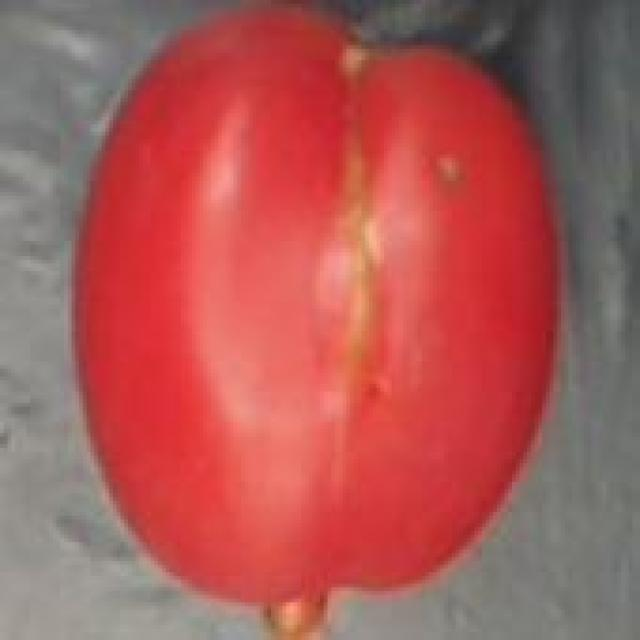ripe tomato: (68, 0, 572, 640)
